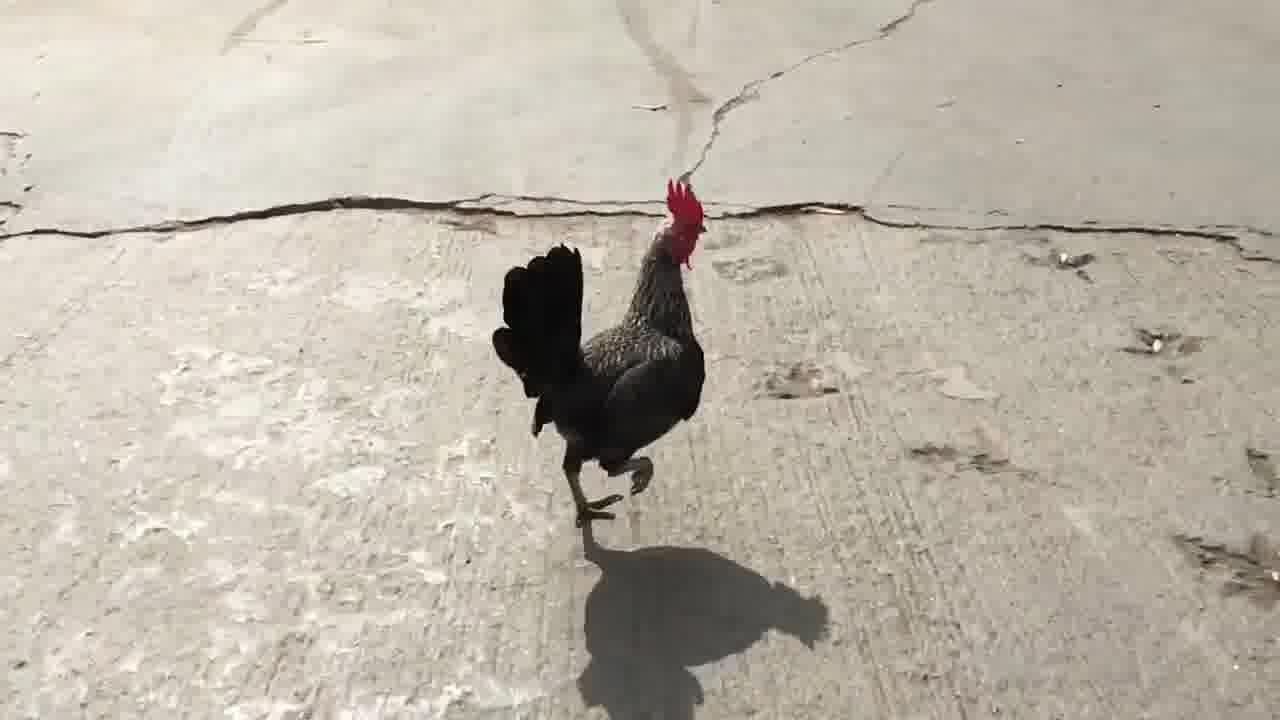Normal: (466, 166, 740, 540)
